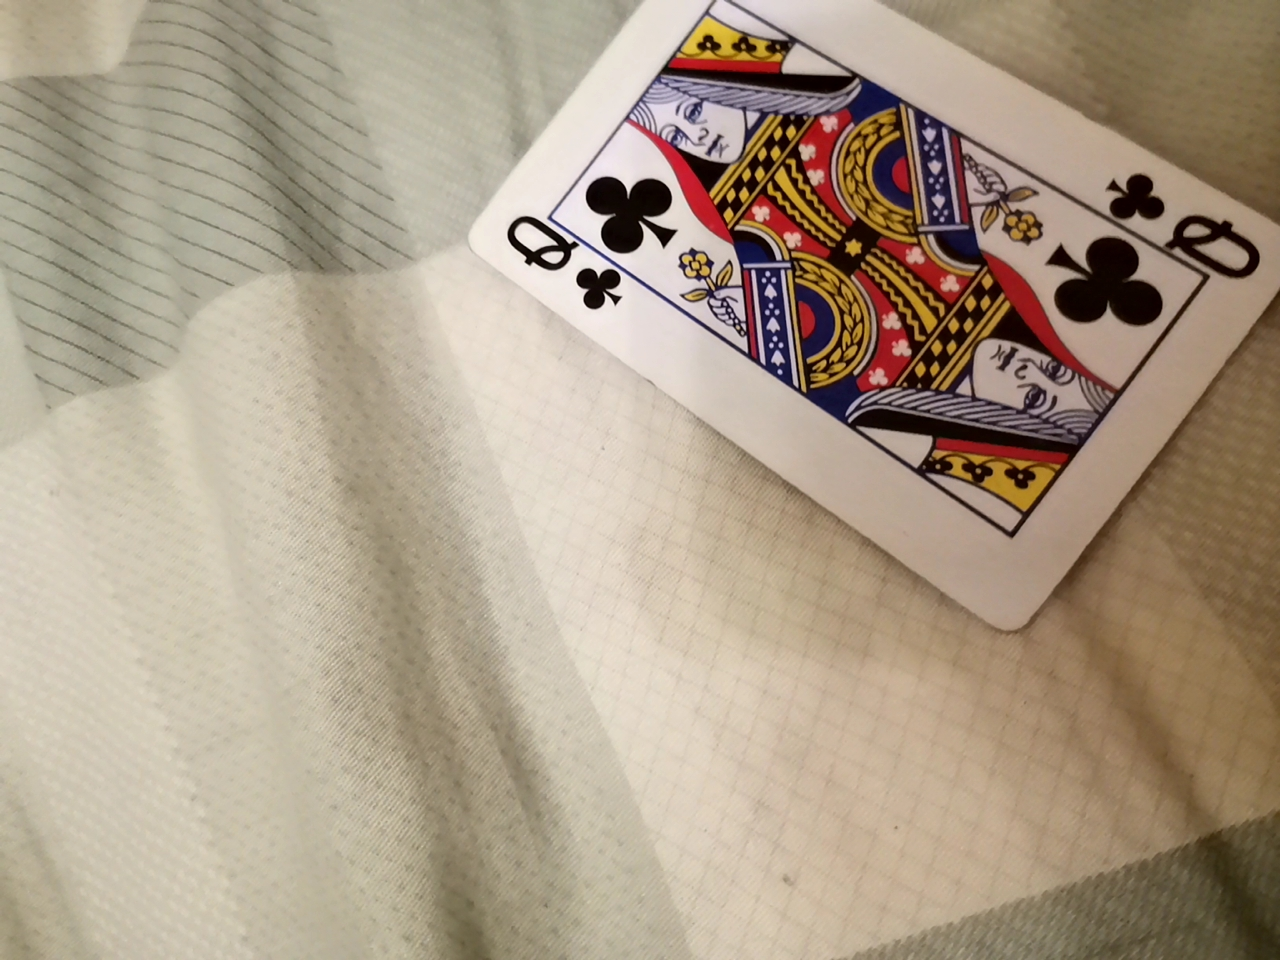mh q: (449, 6, 1268, 648)
